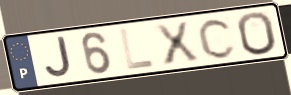6: (80, 31, 114, 76)
C: (196, 16, 238, 61)
J: (43, 35, 74, 80)
L: (118, 27, 157, 72)
O: (235, 10, 280, 58)
X: (151, 20, 202, 68)
